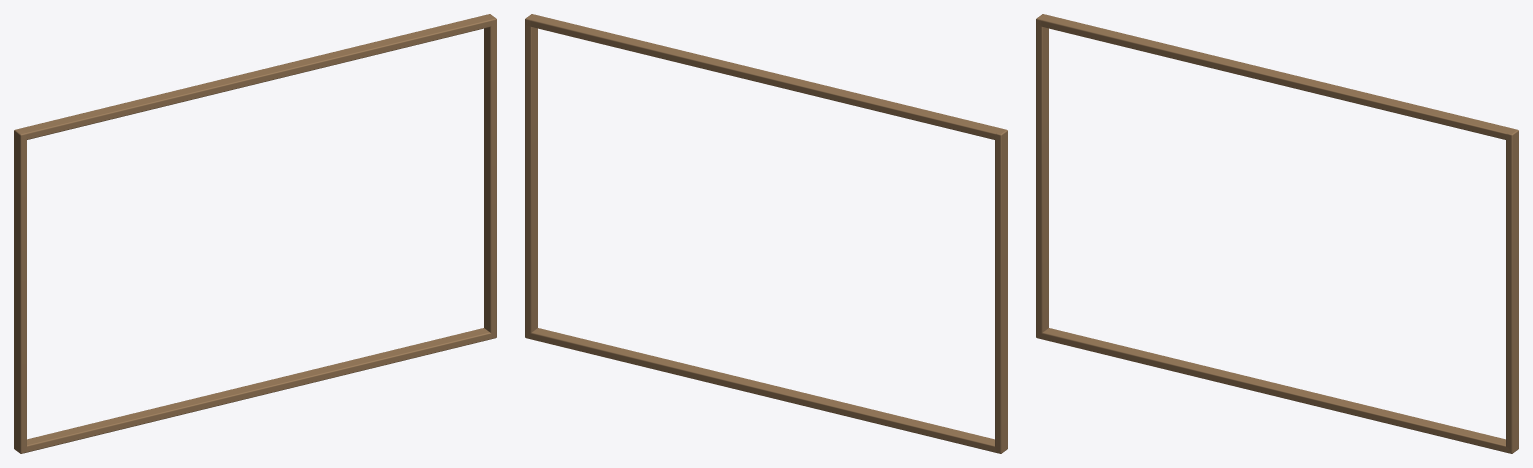
The model's file is DrawingFrame.fbx.
3 renders of one model, left to right at view 1: azimuth 30°, elevation 25°; view 2: azimuth 150°, elevation 25°; view 3: azimuth 330°, elevation 25°, orthographic.
Visible parts, largest first — view 1: DrawingFrame; view 2: DrawingFrame; view 3: DrawingFrame.
Boxes of the visible parts, x1,y1,x2,y2 form: DrawingFrame: [14, 14, 496, 453]; DrawingFrame: [525, 14, 1007, 453]; DrawingFrame: [1036, 14, 1518, 453].
Size of the model in its own units: 3.11 by 1.99 by 0.08.
